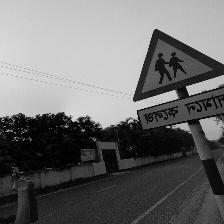College-in-front: (127, 25, 224, 149)
